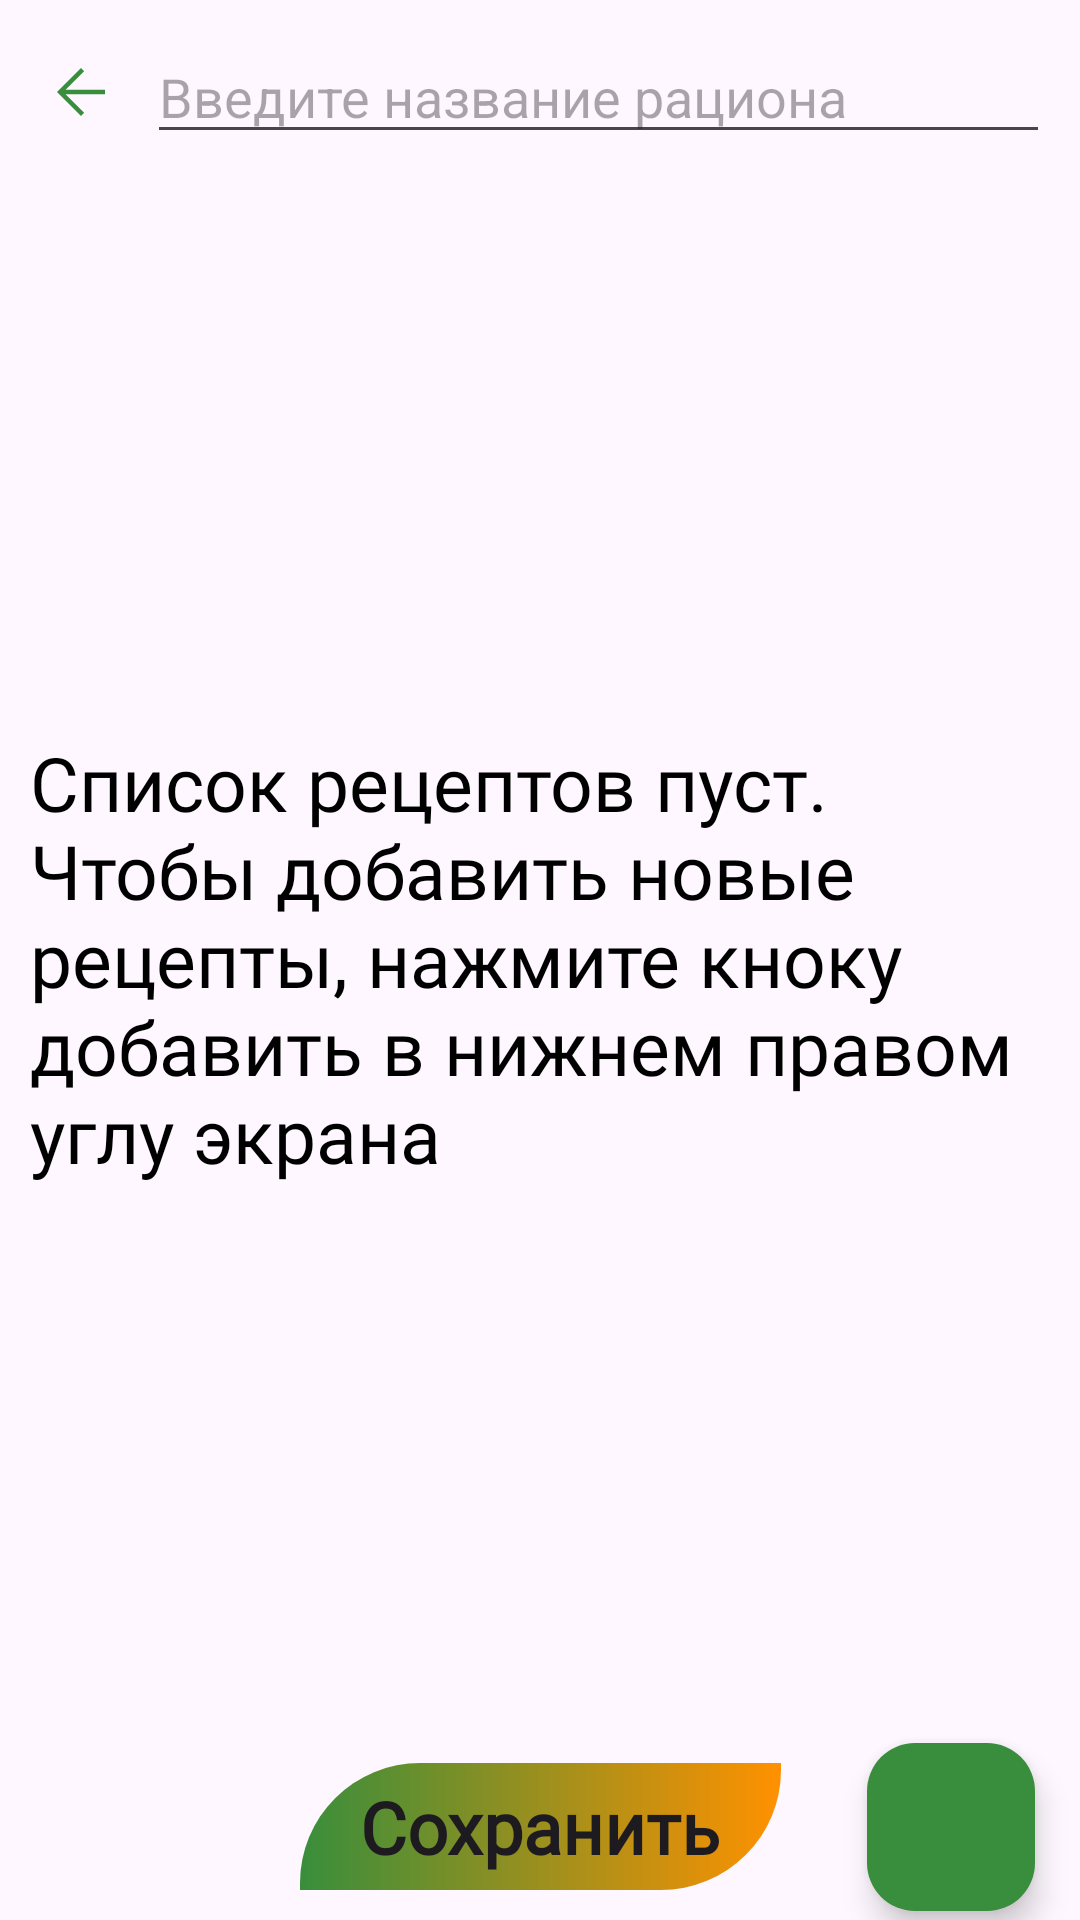

Icon click points for this 1080px×1920px phone screenshot, format point (x, y):
Назад: point (81, 92)
